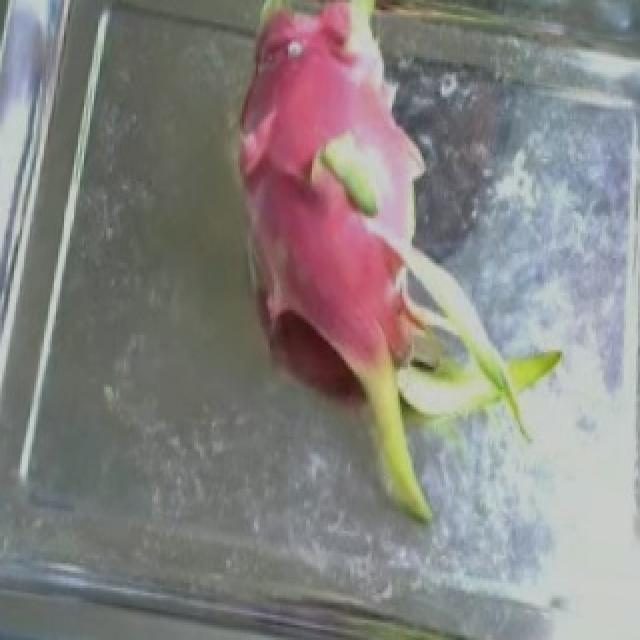fruit: (164, 34, 572, 503)
